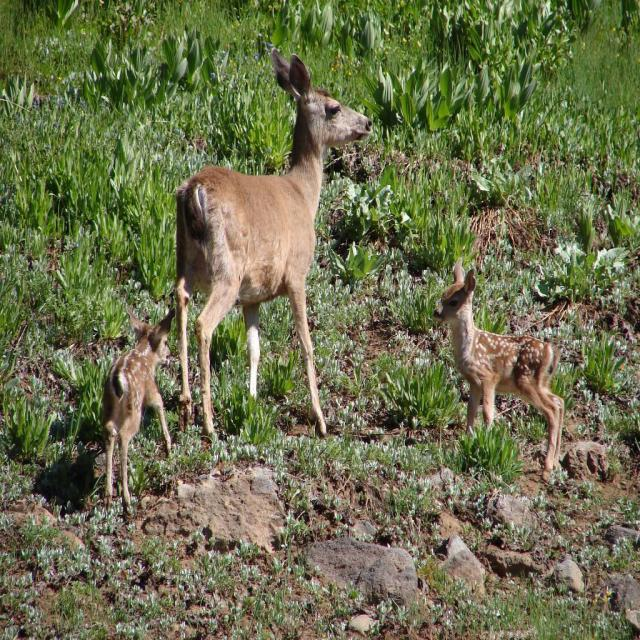Deer: (182, 43, 373, 437), (433, 257, 562, 483), (104, 303, 177, 519)
